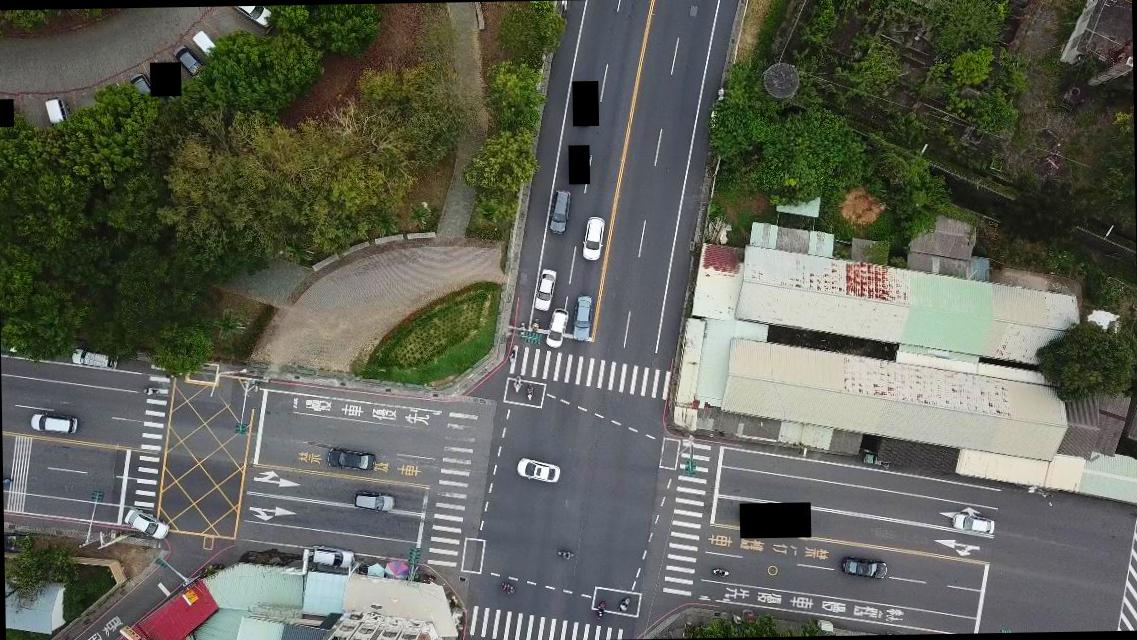vehicle: (119, 507, 169, 541), (301, 542, 354, 570), (171, 41, 207, 82), (67, 345, 118, 371), (514, 456, 560, 484), (840, 554, 888, 580), (326, 448, 376, 472), (28, 411, 76, 436), (546, 187, 572, 233), (532, 268, 559, 312), (570, 295, 594, 344), (581, 214, 605, 262), (950, 510, 994, 536), (352, 489, 396, 515), (544, 305, 570, 349), (234, 6, 274, 32), (188, 30, 217, 60), (44, 96, 69, 128), (130, 72, 152, 105), (5, 532, 32, 556)
